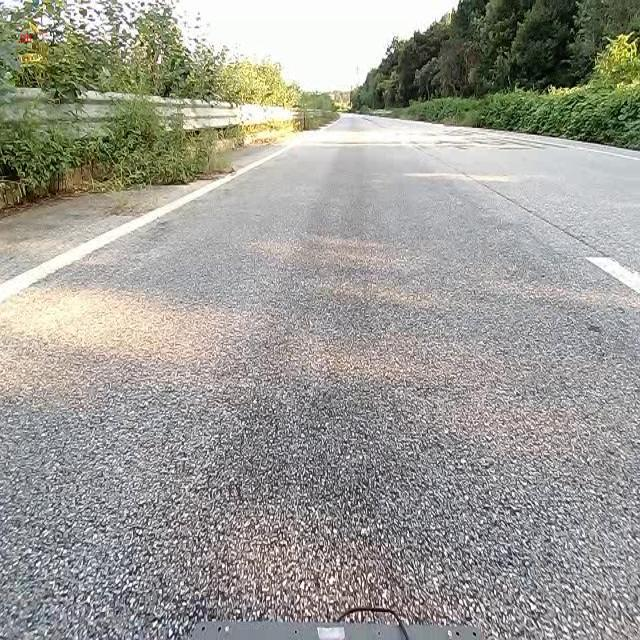Lane: (0, 132, 302, 305), (0, 141, 297, 304), (584, 249, 640, 315), (586, 257, 639, 295)
